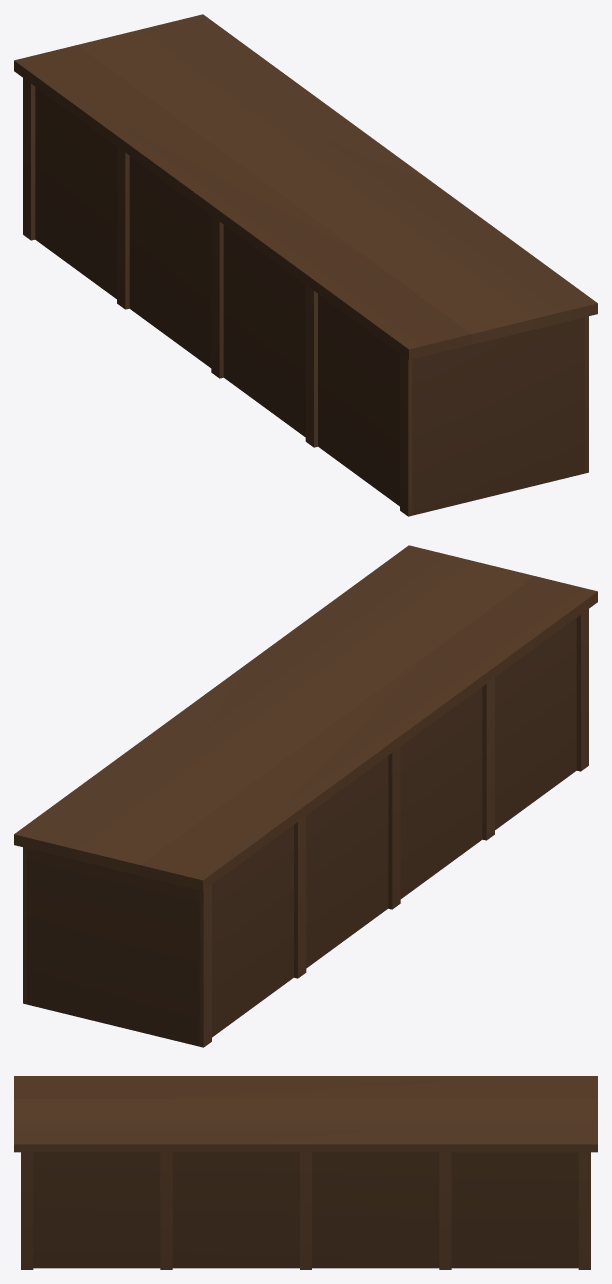
File: stall.counter.walnut.glb
The picture shows the model from 3 angles, top to bottom: view 1: azimuth 30°, elevation 25°; view 2: azimuth 150°, elevation 25°; view 3: azimuth 270°, elevation 25°; orthographic projection. The views are drawn at different scales.
Visible parts, largest first — view 1: stall_counter_walnut; view 2: stall_counter_walnut; view 3: stall_counter_walnut.
Part boxes in pixels (left/top/right/bottom): stall_counter_walnut: left=14, top=14, right=597, bottom=516; stall_counter_walnut: left=14, top=545, right=597, bottom=1047; stall_counter_walnut: left=14, top=1076, right=597, bottom=1269.
Size of what is drawn, in the model's own units: 0.922 by 0.8 by 3.34.
